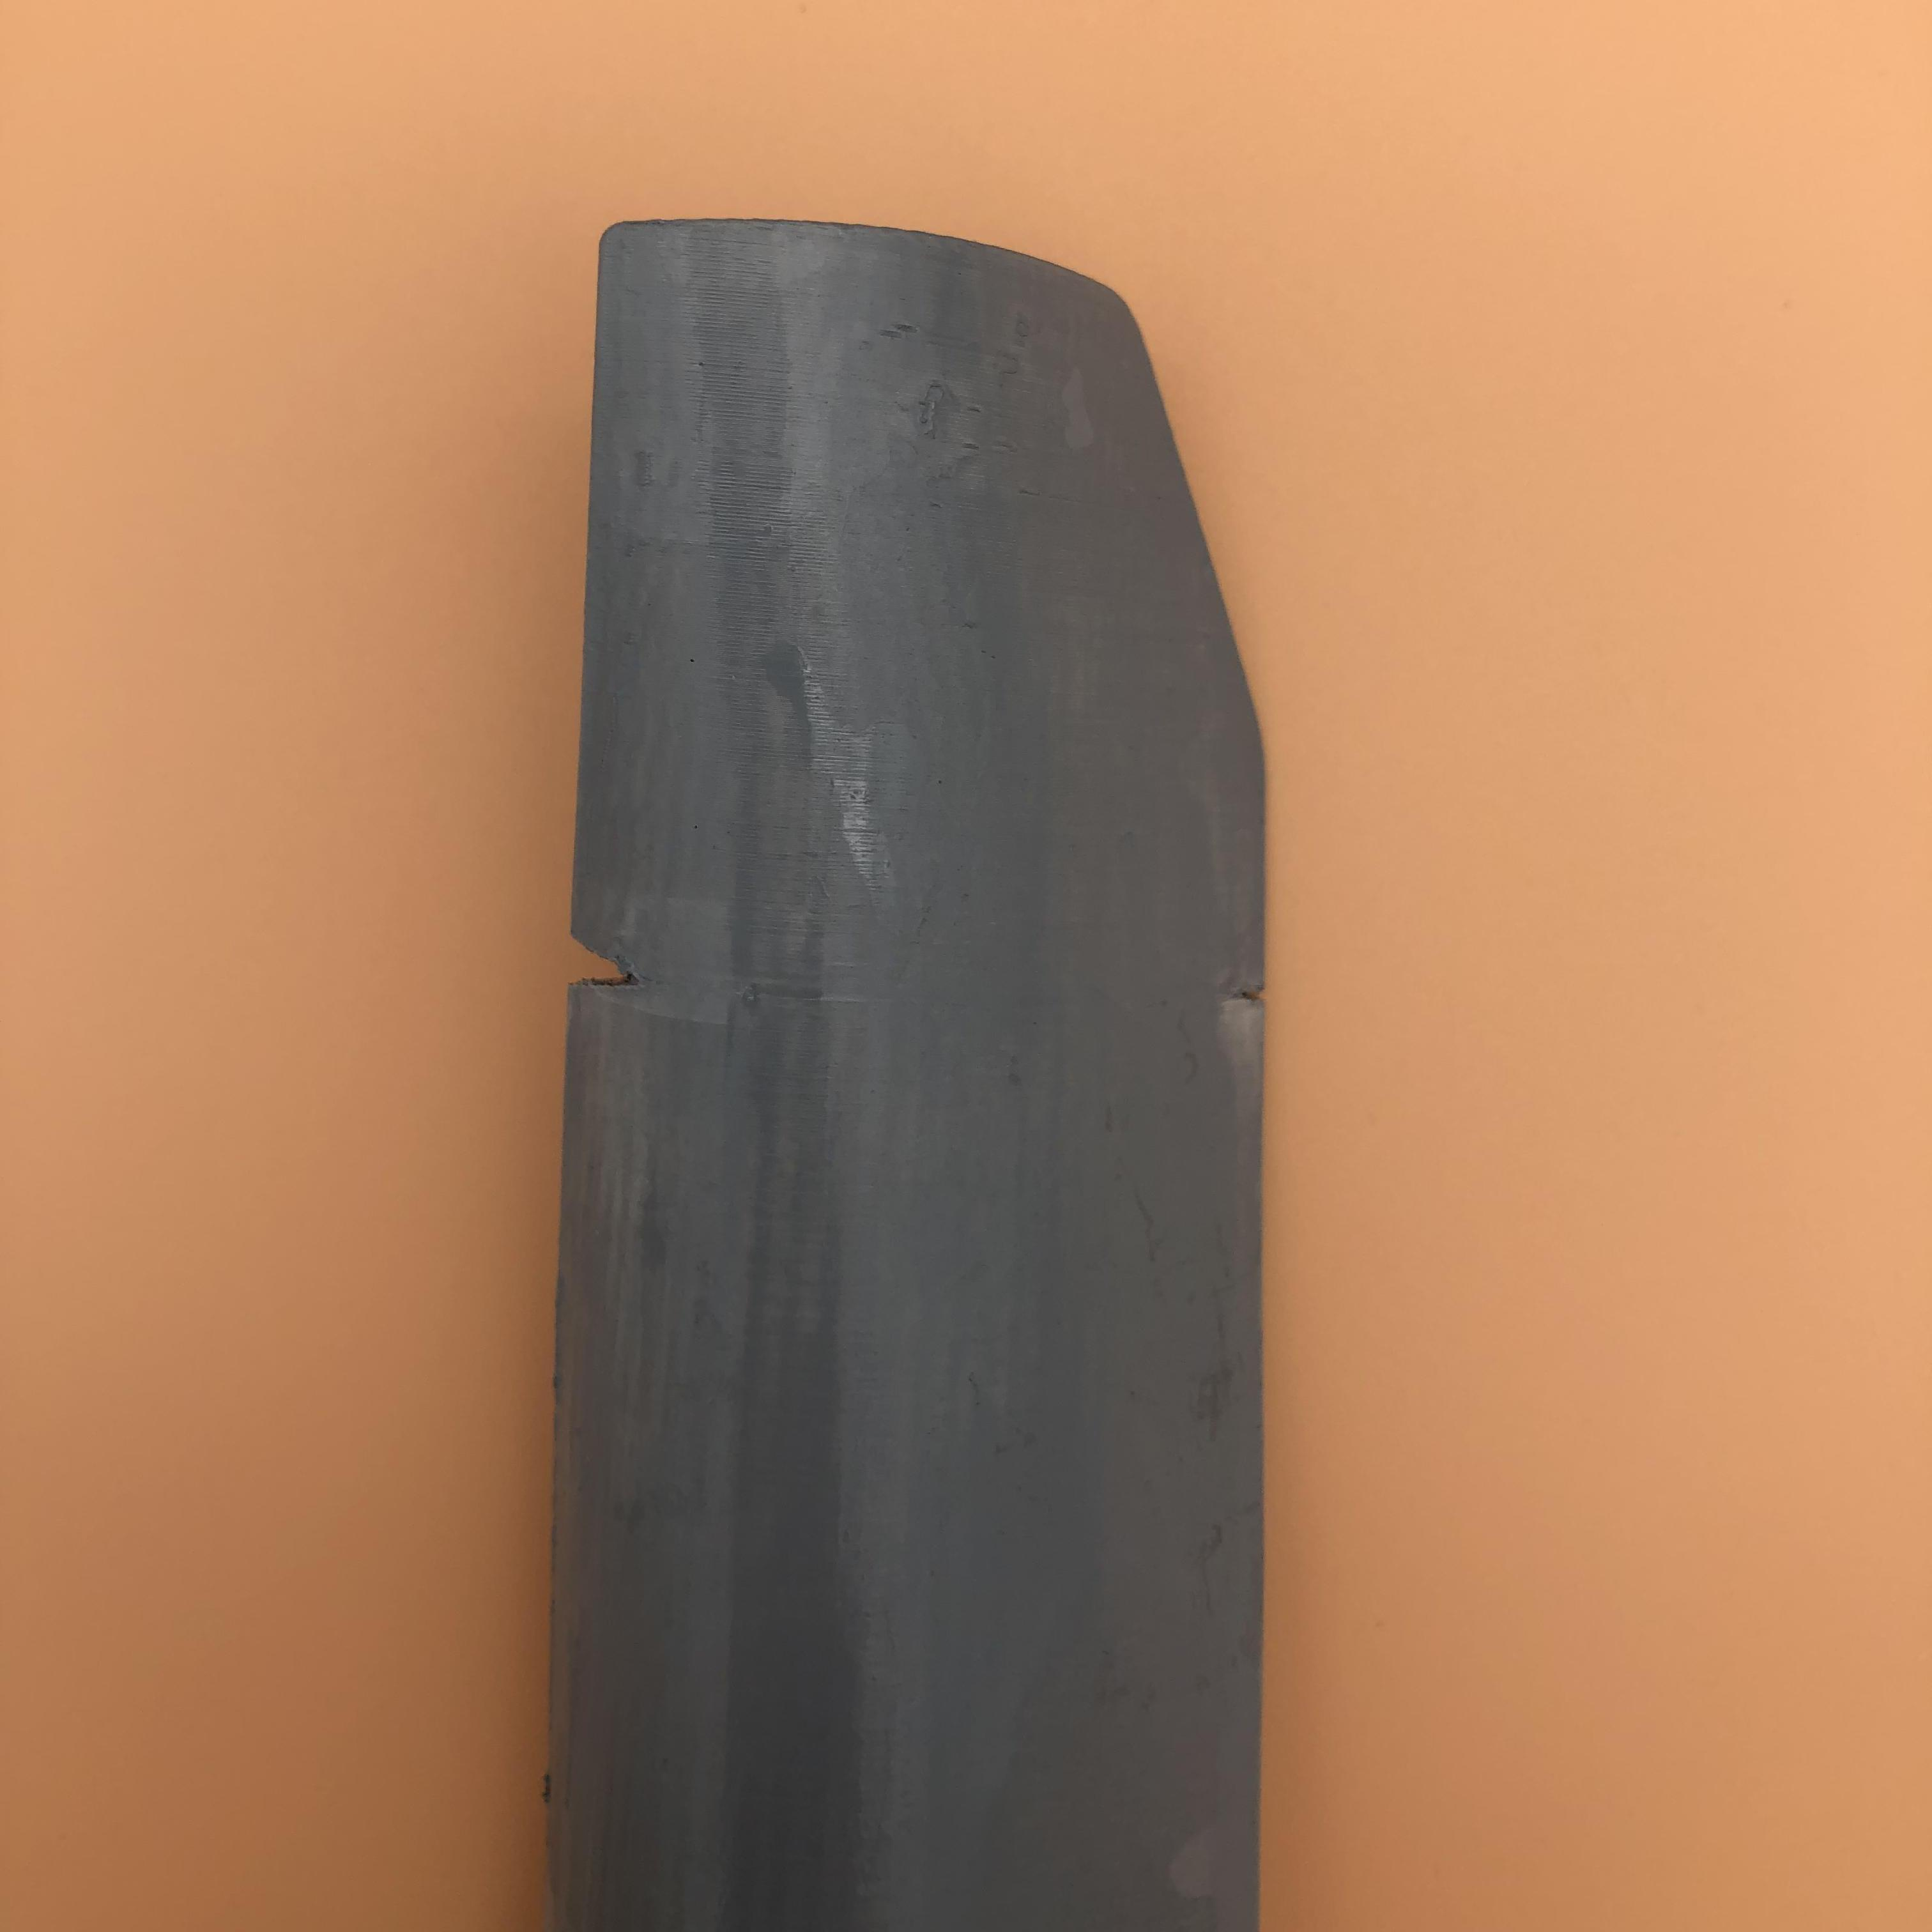groove: (575, 936, 655, 1003), (1217, 966, 1272, 1016)
